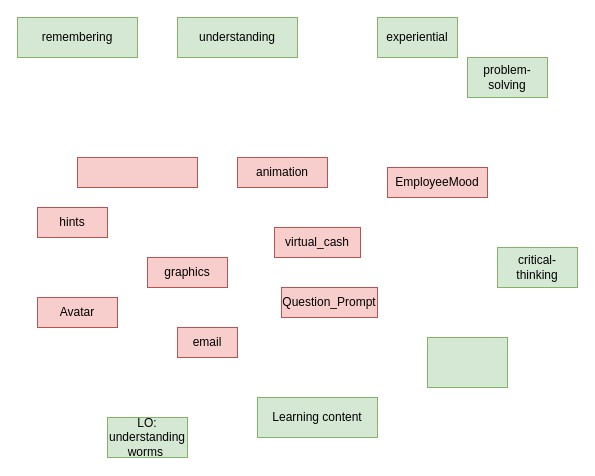
Image size: 595x476. Some labels were removed from this diagram. The shapes that lost their labels are listed below. From the top down, each one's centre as x and y in pixels, then its label:
(x=137, y=172): resourceManagement
(x=467, y=362): reasoning
